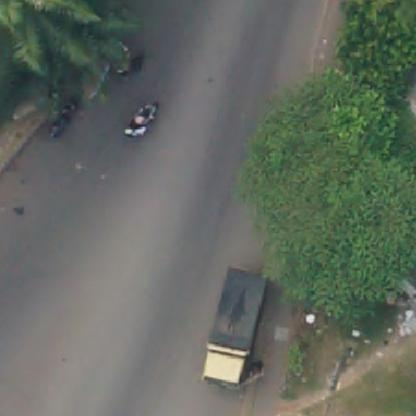motorcycle: (127, 102, 165, 139), (44, 100, 75, 139), (112, 44, 144, 80), (124, 99, 145, 140)
truck: (197, 270, 270, 393)
